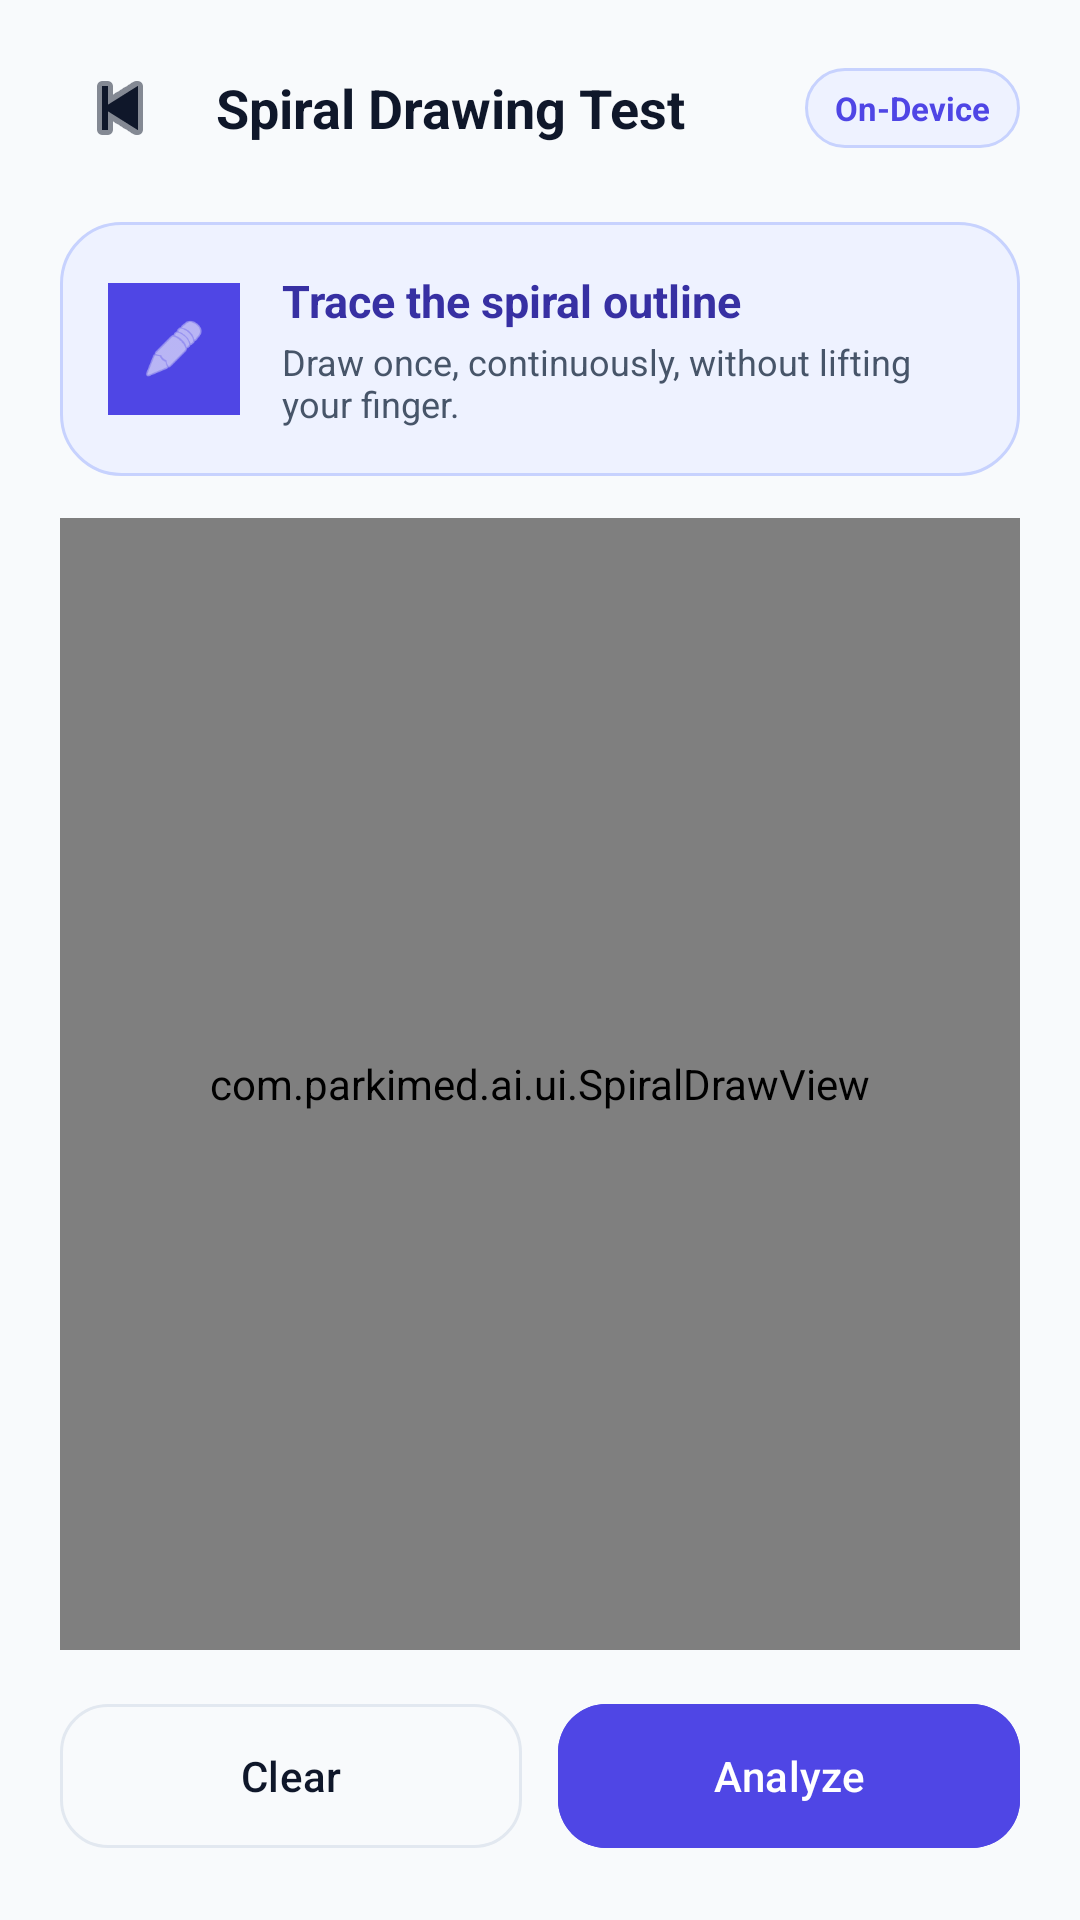

Icon click points for this 1080px×1920px phone screenshot, format [x,y]:
Back: [120,108]
edit: [174,348]
